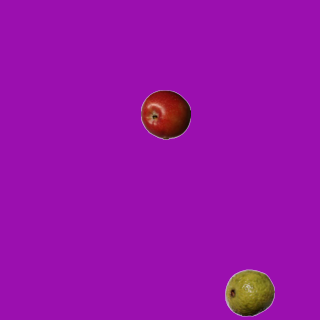Apple Braeburn: (140, 89, 190, 139)
Guava: (224, 267, 274, 317)
